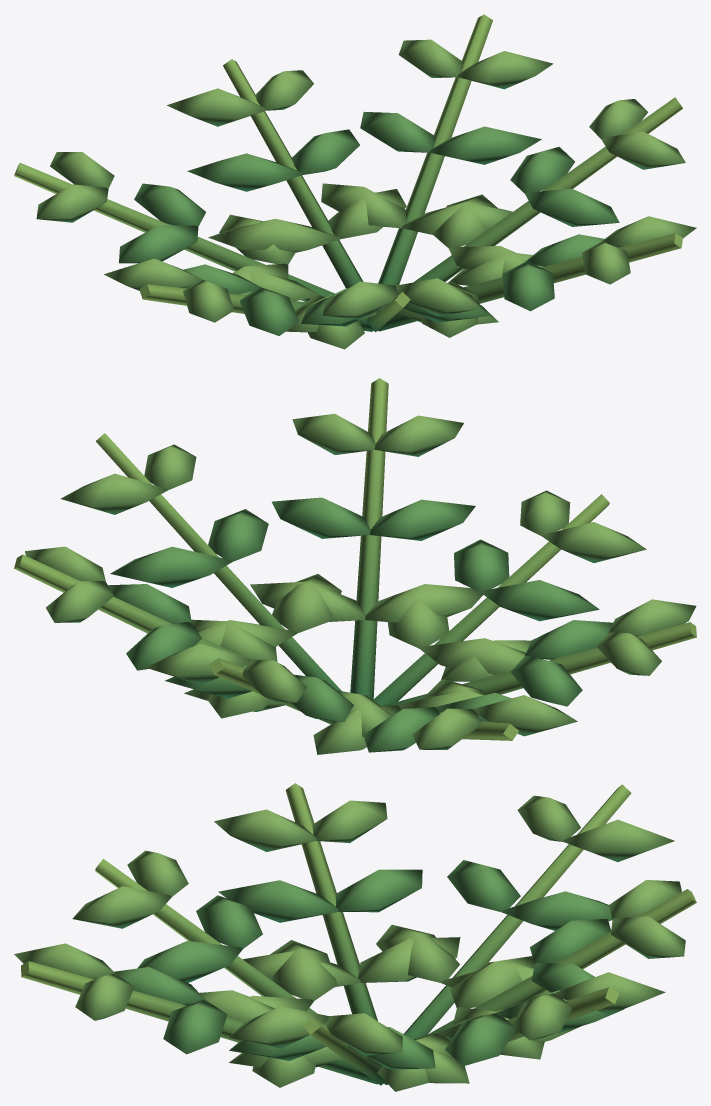
File: Origin_Fern_Rosette_LOD1.glb
The picture shows the model from 3 angles, top to bottom: view 1: azimuth 30°, elevation 25°; view 2: azimuth 150°, elevation 25°; view 3: azimuth 270°, elevation 25°; orthographic projection. The views are drawn at different scales.
Parts seen in each view (by area): view 1: Origin_Fern_Rosette_LOD1; view 2: Origin_Fern_Rosette_LOD1; view 3: Origin_Fern_Rosette_LOD1.
Part boxes in pixels (x1,y1,x2,y2): Origin_Fern_Rosette_LOD1: [14, 14, 696, 349]; Origin_Fern_Rosette_LOD1: [14, 378, 696, 754]; Origin_Fern_Rosette_LOD1: [14, 783, 696, 1091].
Bounding box in the file's own units: 0.6712 × 0.2235 × 0.652.
